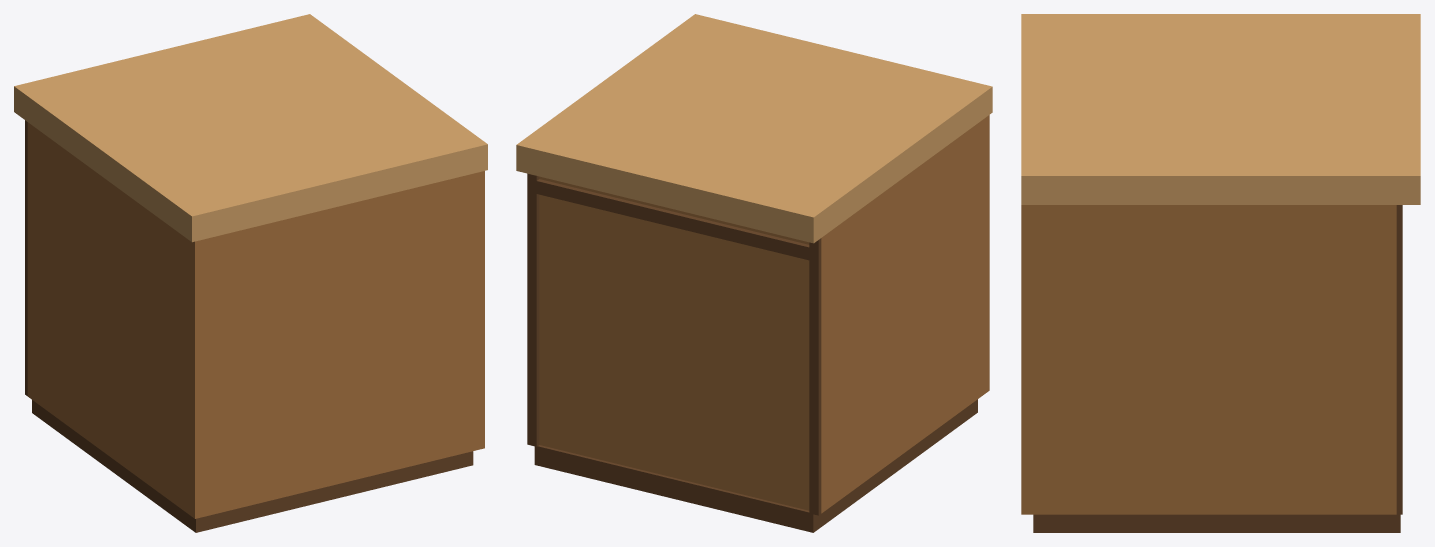
Rendered from counter_1m.glb.
3 renders of one model, left to right at view 1: azimuth 30°, elevation 25°; view 2: azimuth 150°, elevation 25°; view 3: azimuth 270°, elevation 25°, orthographic. The views are drawn at different scales.
Visible parts, largest first — view 1: counter_1m_body; view 2: counter_1m_body; view 3: counter_1m_body.
Boxes of the visible parts, left/top/right/bottom form: counter_1m_body: left=14, top=14, right=487, bottom=532; counter_1m_body: left=516, top=14, right=992, bottom=532; counter_1m_body: left=1021, top=14, right=1420, bottom=532.
Bounding box in the file's own units: 0.96 × 1 × 1.
